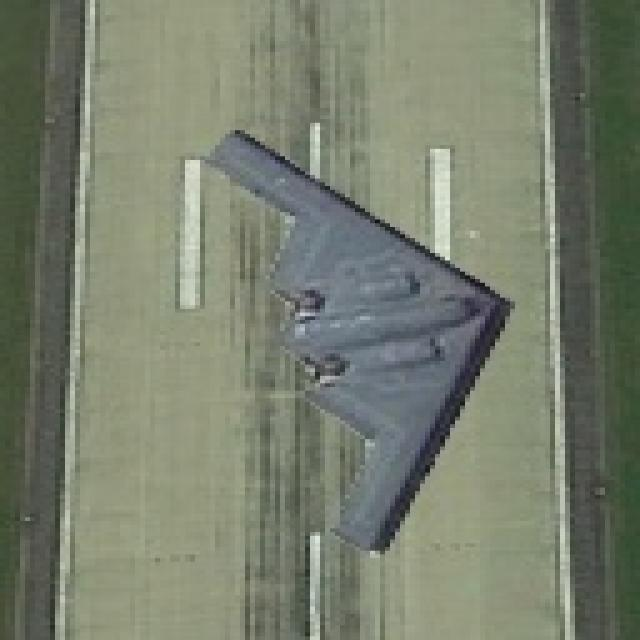B-2_TopDown: (185, 119, 515, 554)
